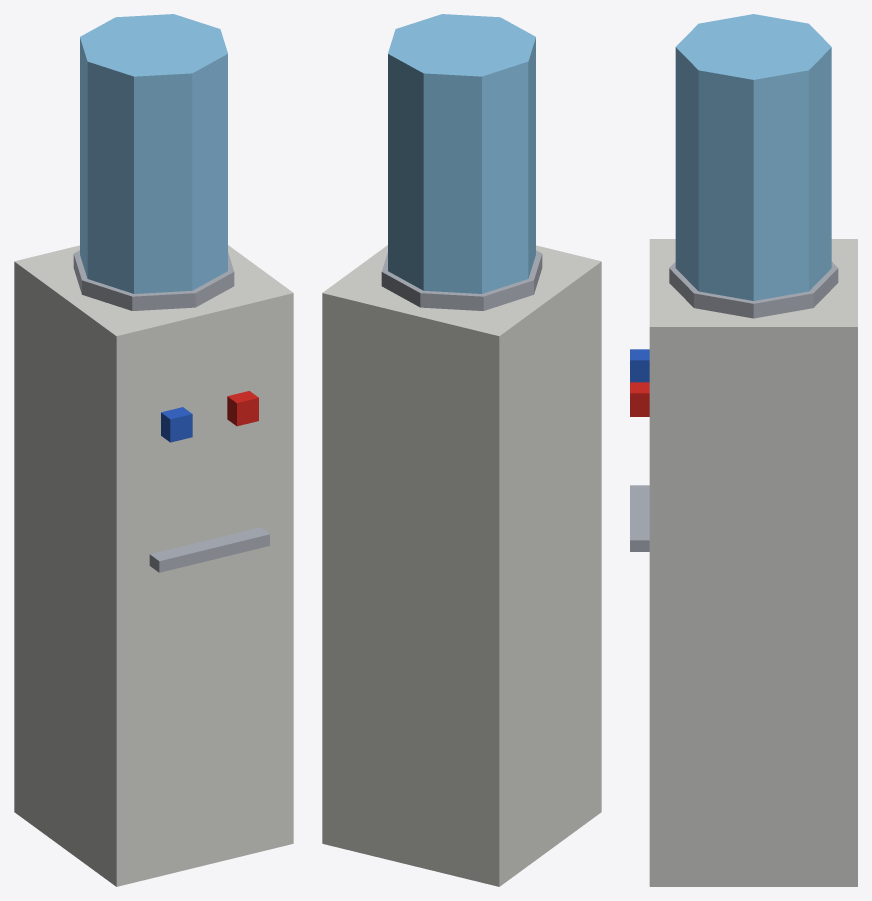
File: water_cooler.glb
3 views of the same model, side by side, from view 1: azimuth 30°, elevation 25°; view 2: azimuth 150°, elevation 25°; view 3: azimuth 270°, elevation 25° (orthographic).
Parts seen in each view (by area): view 1: water_cooler; view 2: water_cooler; view 3: water_cooler.
Part boxes in pixels (bbox=[...]): water_cooler: bbox=[14, 14, 293, 886]; water_cooler: bbox=[322, 14, 601, 886]; water_cooler: bbox=[630, 14, 857, 886].
Size of the model in its own units: 0.32 by 1.35 by 0.35.
